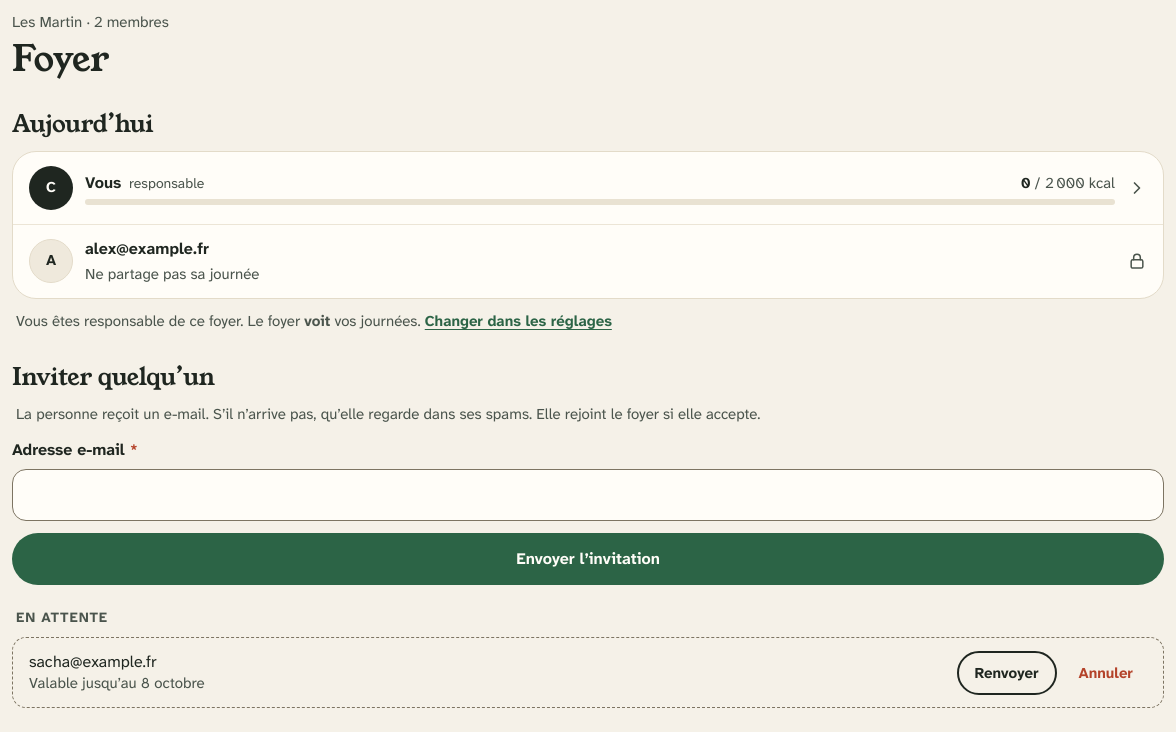
it: Écran Foyer › invite par e-mail et le confirme
In the field labelled "Adresse e-mail *": (588, 495) [29, 470, 1147, 520], type "noa@example.fr"
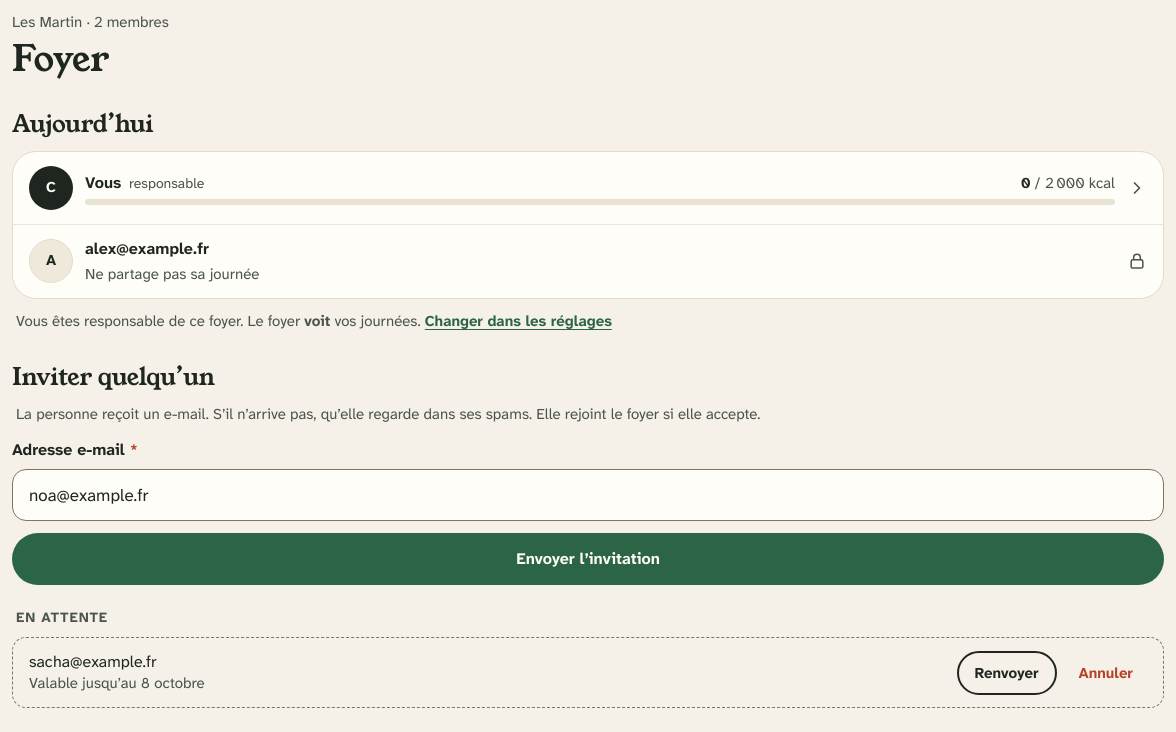
Submit the form, box [12, 438, 1164, 585]
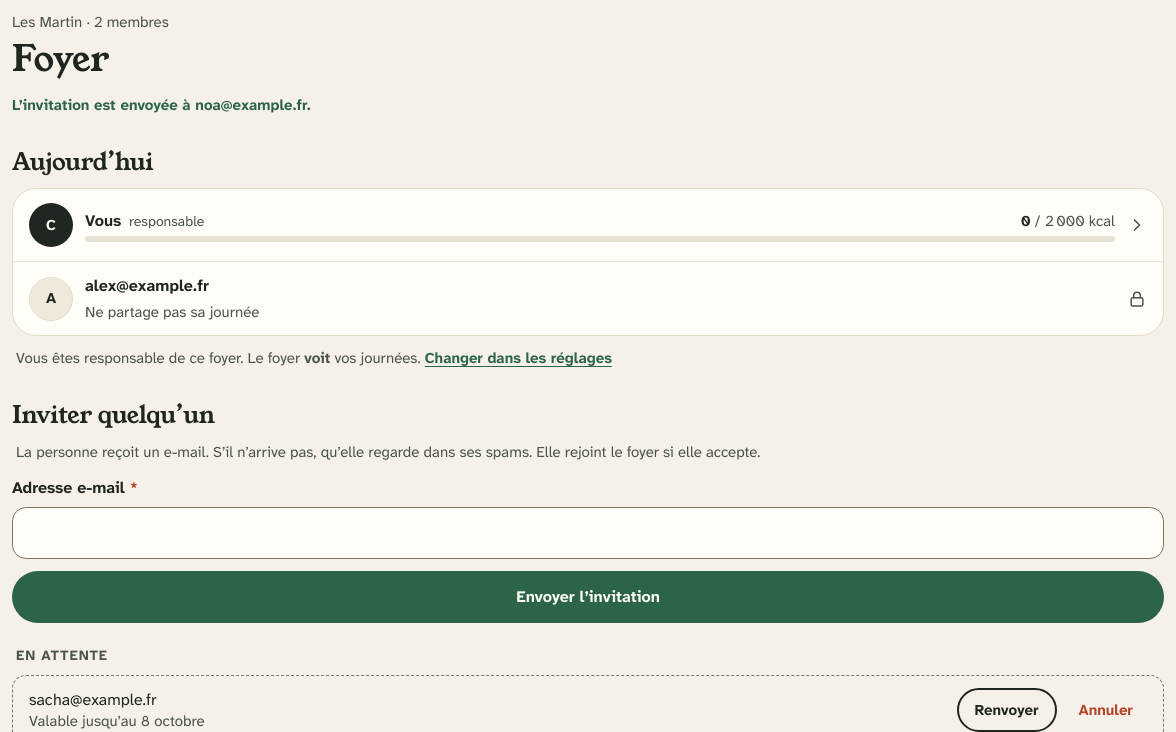
Check: the text "L’invitation est envoyée à noa@example.fr." is shown, box [12, 95, 311, 115]
